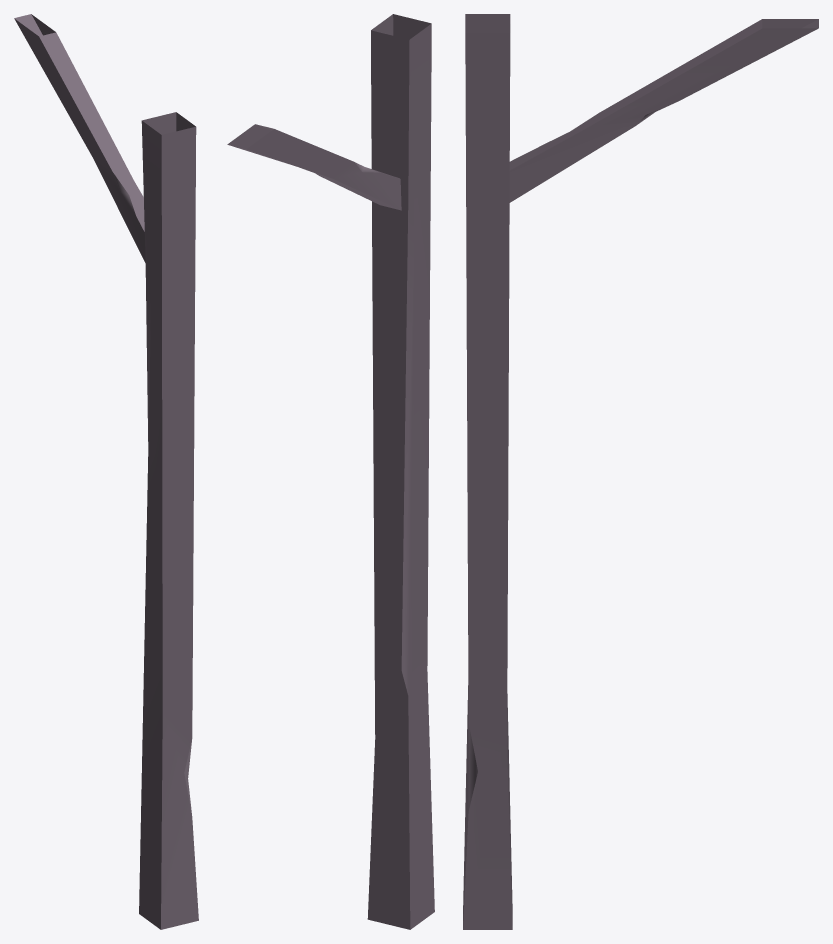
Rendered from SM_Bld_House_Railing_Beam_02.fbx.
3 renders of one model, left to right at view 1: azimuth 30°, elevation 25°; view 2: azimuth 150°, elevation 25°; view 3: azimuth 270°, elevation 25°, orthographic. The views are drawn at different scales.
Parts seen in each view (by area): view 1: SM_Bld_House_Railing_Beam_02; view 2: SM_Bld_House_Railing_Beam_02; view 3: SM_Bld_House_Railing_Beam_02.
Part boxes in pixels (x1,y1,x2,y2): SM_Bld_House_Railing_Beam_02: (14, 14, 198, 929); SM_Bld_House_Railing_Beam_02: (227, 14, 434, 929); SM_Bld_House_Railing_Beam_02: (463, 14, 818, 929).
Size of the model in its own units: 0.2224 by 4.44 by 1.6.
Materials: 1 (1 with a texture image).
